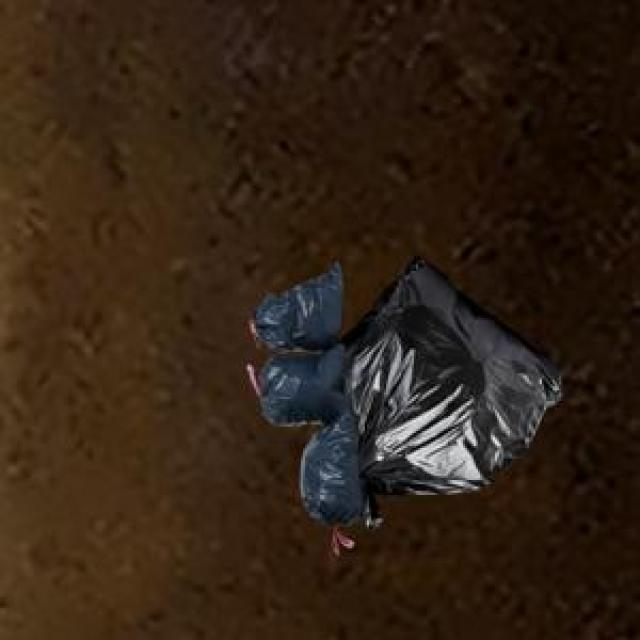miscellaneous trash: (335, 252, 557, 527), (245, 260, 361, 523)
